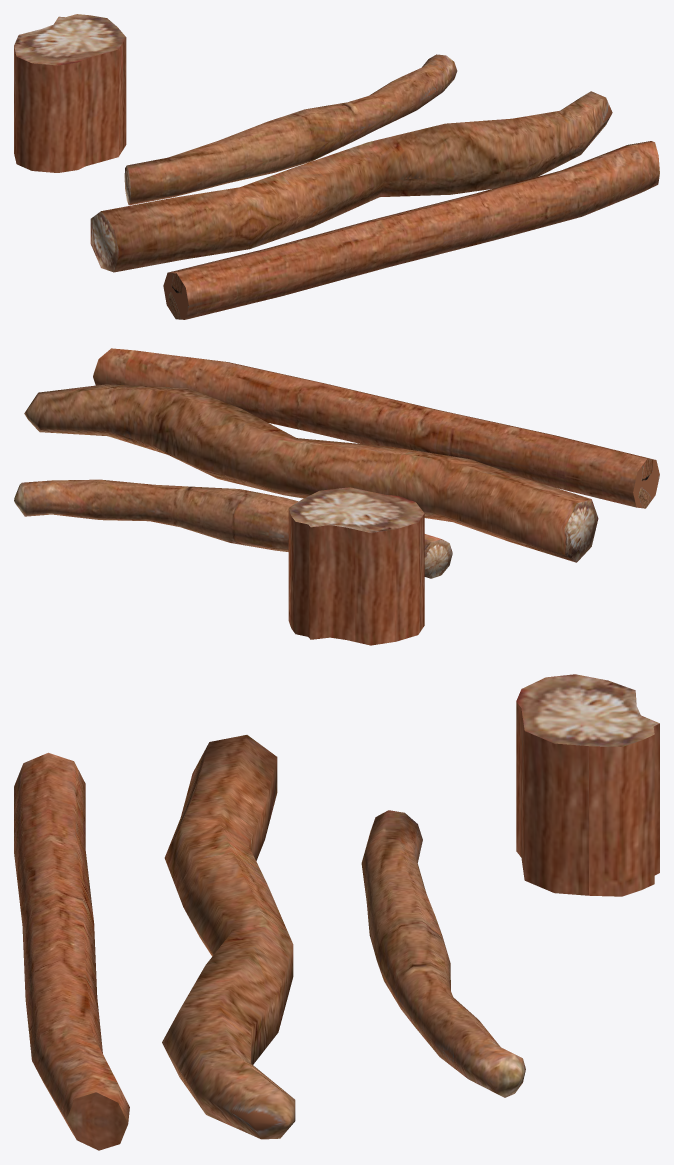
File: danshen.FBX
3 views of the same model, one above another, from view 1: azimuth 30°, elevation 25°; view 2: azimuth 150°, elevation 25°; view 3: azimuth 270°, elevation 25° (orthographic). The views are drawn at different scales.
Visible parts, largest first — view 1: Cylinder002, Cylinder003, Line001, Cylinder001; view 2: Cylinder002, Cylinder003, Line001, Cylinder001; view 3: Cylinder002, Line001, Cylinder003, Cylinder001.
Part boxes in pixels (bbox=[...]): Cylinder002: bbox=[90, 91, 612, 272]; Cylinder003: bbox=[163, 141, 659, 319]; Line001: bbox=[14, 14, 126, 172]; Cylinder001: bbox=[124, 54, 457, 205]; Cylinder002: bbox=[24, 384, 598, 562]; Cylinder003: bbox=[93, 348, 659, 508]; Line001: bbox=[288, 487, 424, 645]; Cylinder001: bbox=[14, 479, 452, 578]; Cylinder002: bbox=[162, 735, 295, 1139]; Line001: bbox=[516, 674, 659, 896]; Cylinder003: bbox=[14, 752, 129, 1150]; Cylinder001: bbox=[361, 810, 525, 1097].
Size of the model in its own units: 47.69 by 10.65 by 37.18.
1 material, 1 textured.
